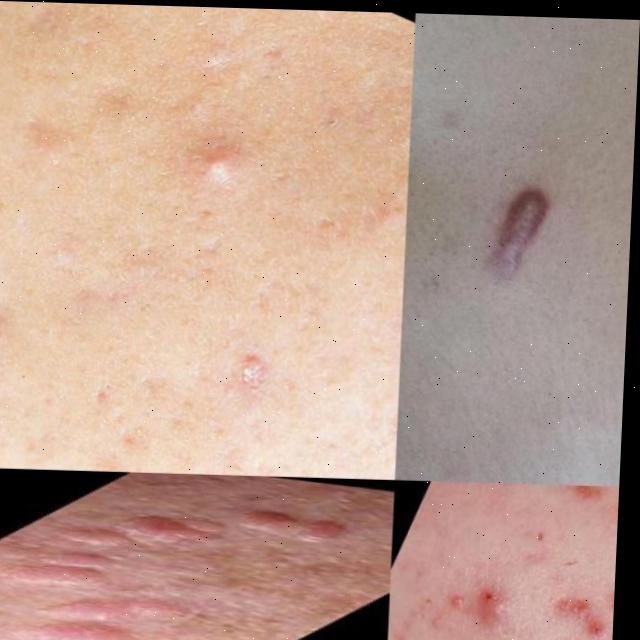Acne: (139, 127, 316, 381), (48, 515, 309, 640), (451, 568, 615, 640), (503, 188, 544, 257)
